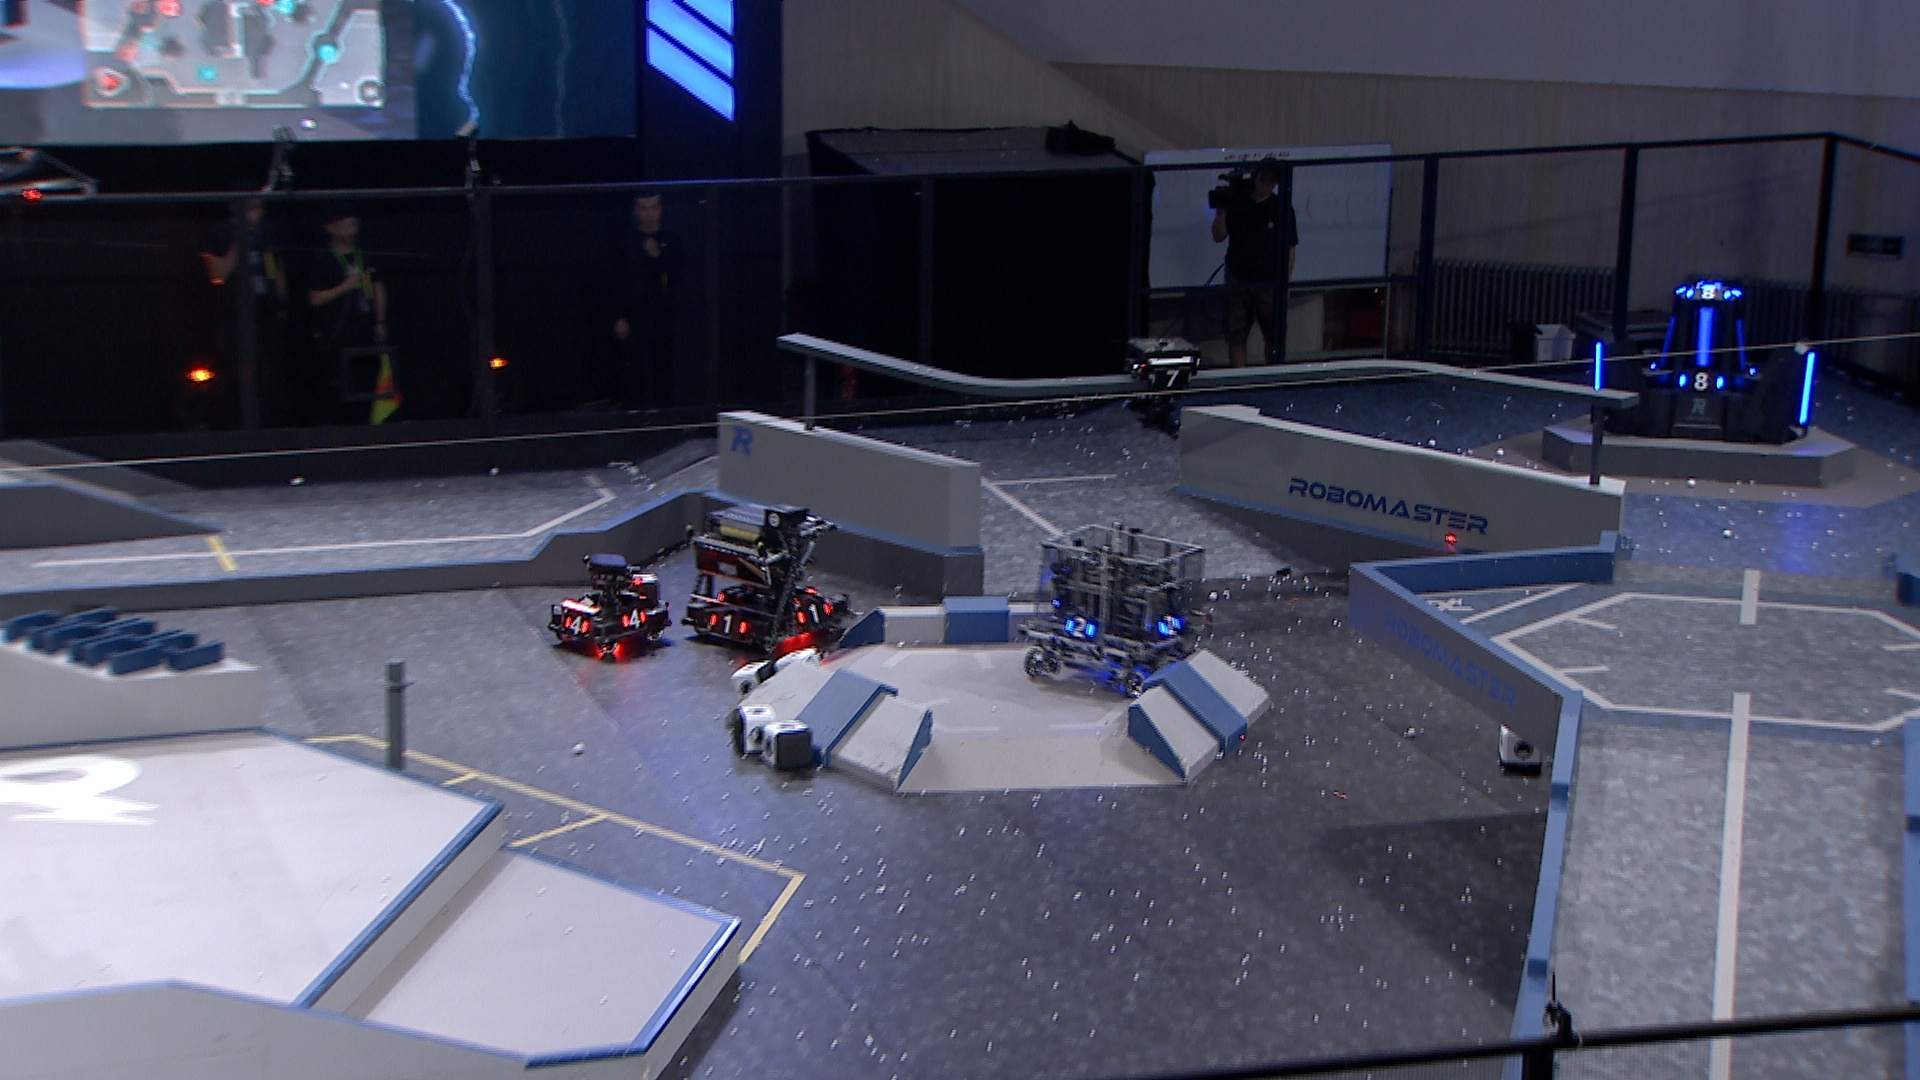armor: (1695, 309, 1718, 371), (1799, 351, 1816, 427), (1675, 371, 1726, 392), (707, 612, 749, 637), (1659, 315, 1679, 367), (1149, 368, 1193, 390), (1733, 314, 1750, 372), (1683, 284, 1735, 302), (794, 603, 832, 626), (1062, 616, 1097, 638), (1154, 616, 1185, 638), (621, 608, 650, 632), (1592, 342, 1605, 392), (564, 615, 589, 638)
base: (1588, 280, 1820, 450)
car: (1015, 524, 1209, 695), (676, 498, 855, 657), (547, 550, 676, 659)
watcher: (1122, 338, 1203, 439)
